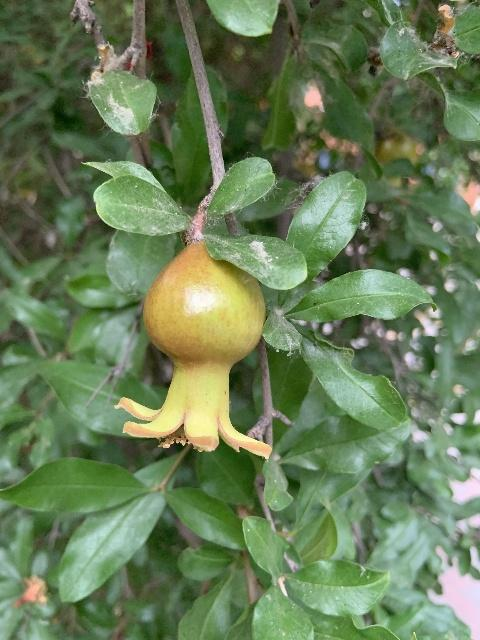early-fruit: (115, 242, 269, 456)
